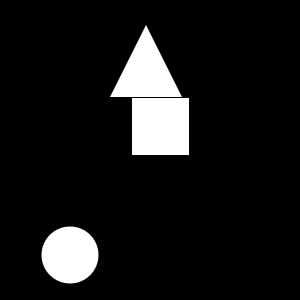circle: (132, 98, 189, 155)
rectangle: (42, 226, 99, 284)
triangle: (110, 25, 182, 97)
